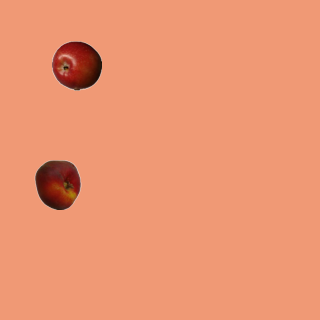Apple Braeburn: (51, 40, 101, 90)
Nectarine Flat: (32, 159, 82, 209)
